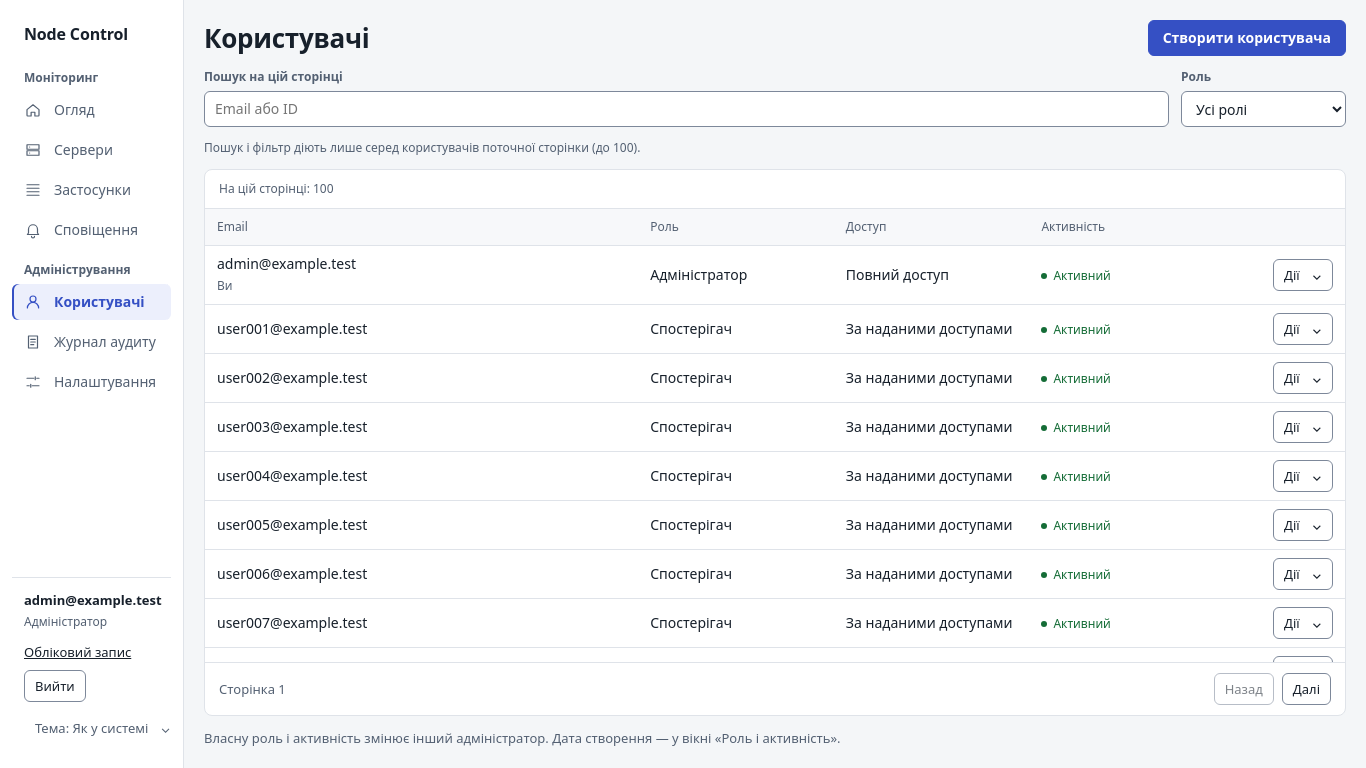
Test: create with a lost answer (P2-1) › not stored, the whole list read: says so with the bound and keeps the result unknown (never «not created»)
Click the button "Створити користувача" at (1247, 38), box [1148, 20, 1346, 56]
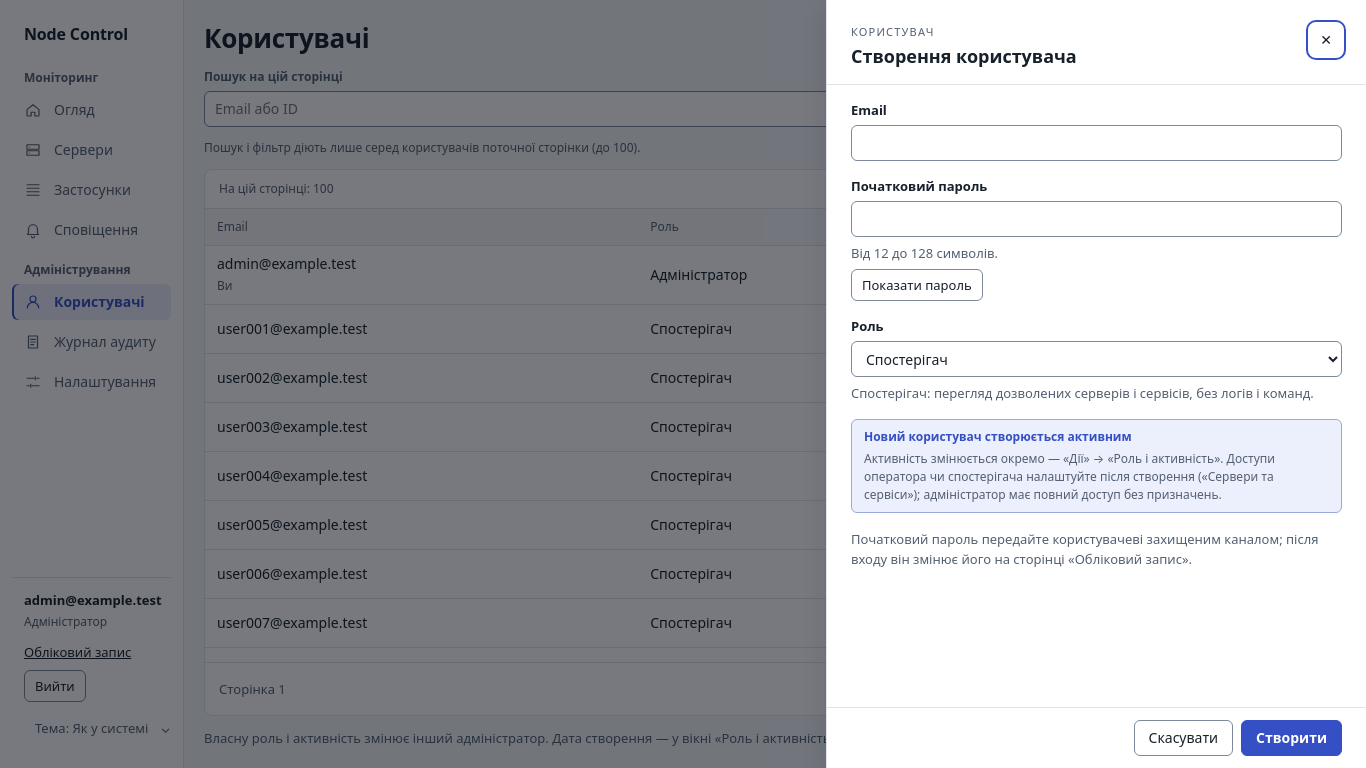
Type "fresh@example.test" into the field labelled "Email" at (1096, 143), box [851, 125, 1342, 161]
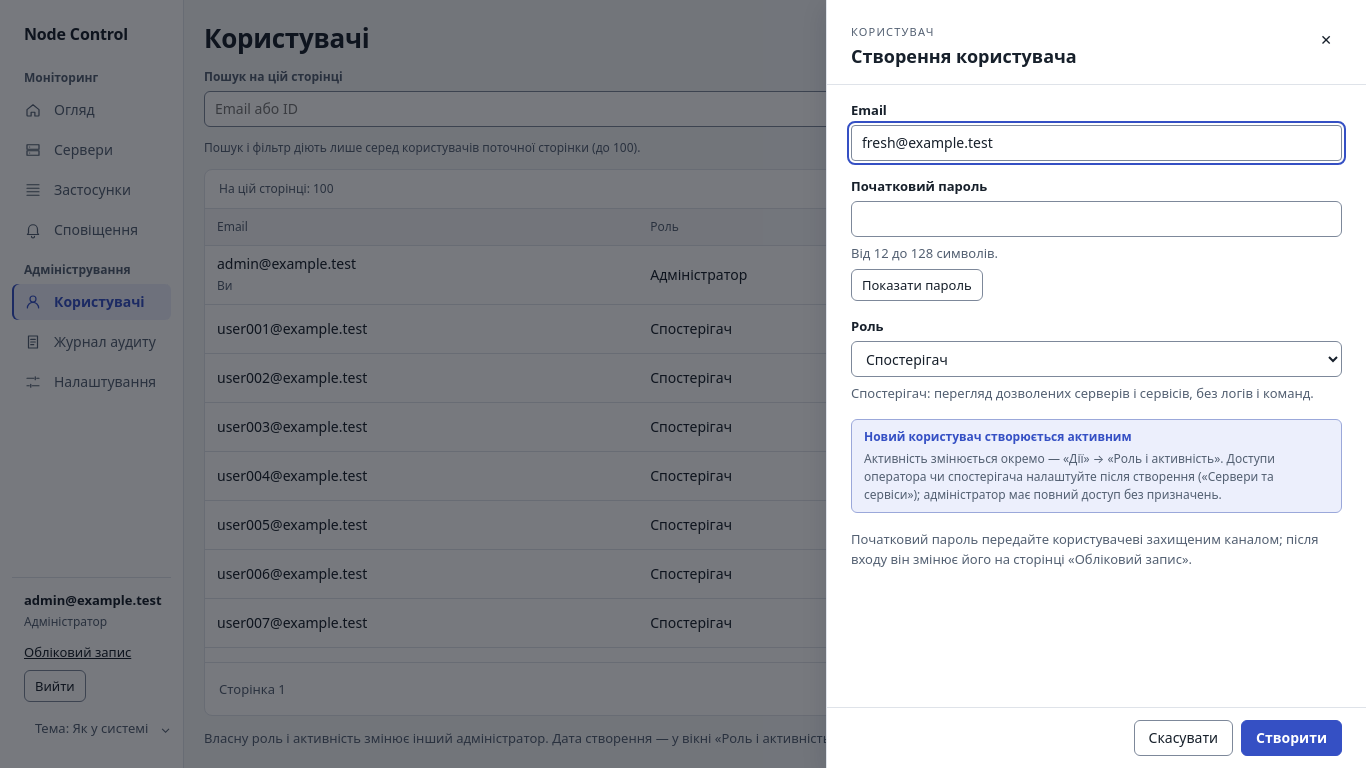
Type "synthetic-Fresh-Passw0rd" into the password field labelled "Початковий пароль" at (1096, 219), box [851, 201, 1342, 237]
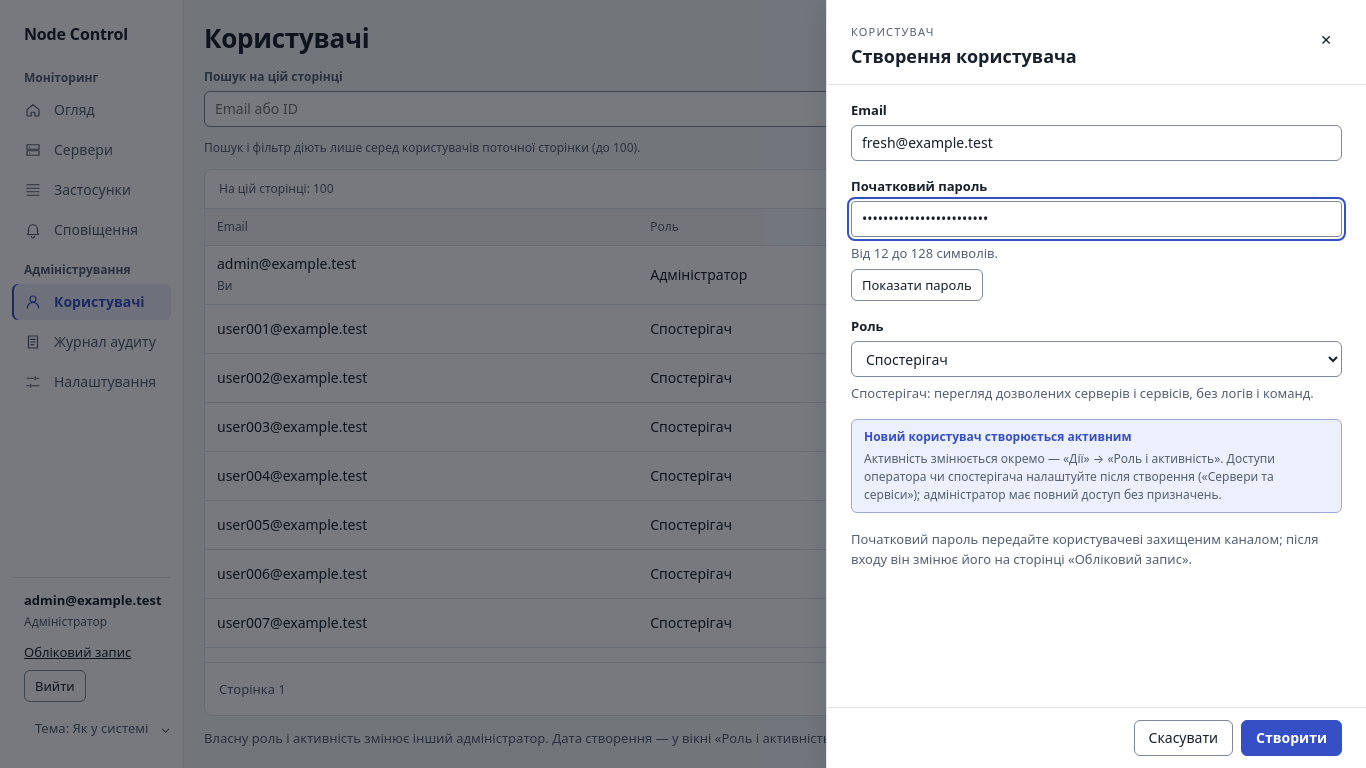
Select "Спостерігач" in the dropdown labelled "Роль" at (1096, 359), box [851, 341, 1342, 377]
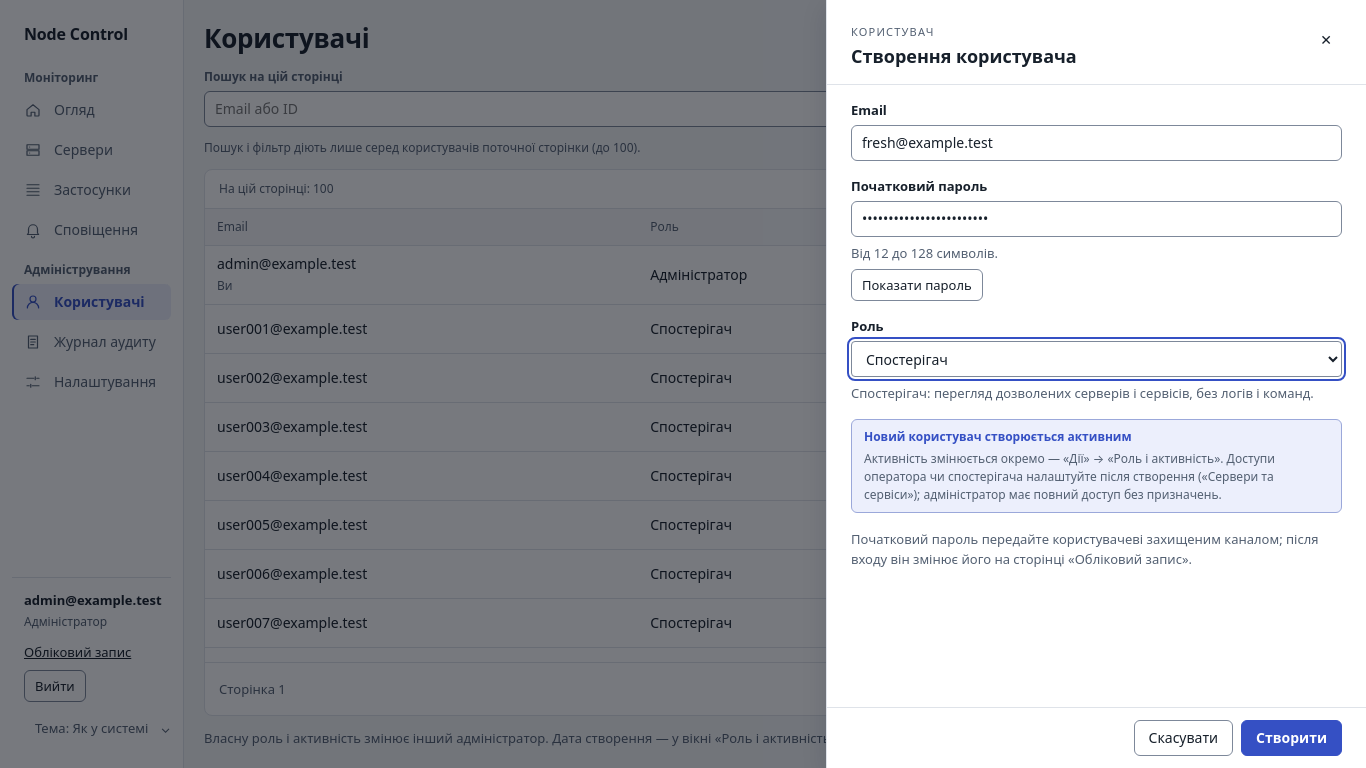
Click the button "Створити" at (1292, 738), box [1241, 720, 1342, 756]
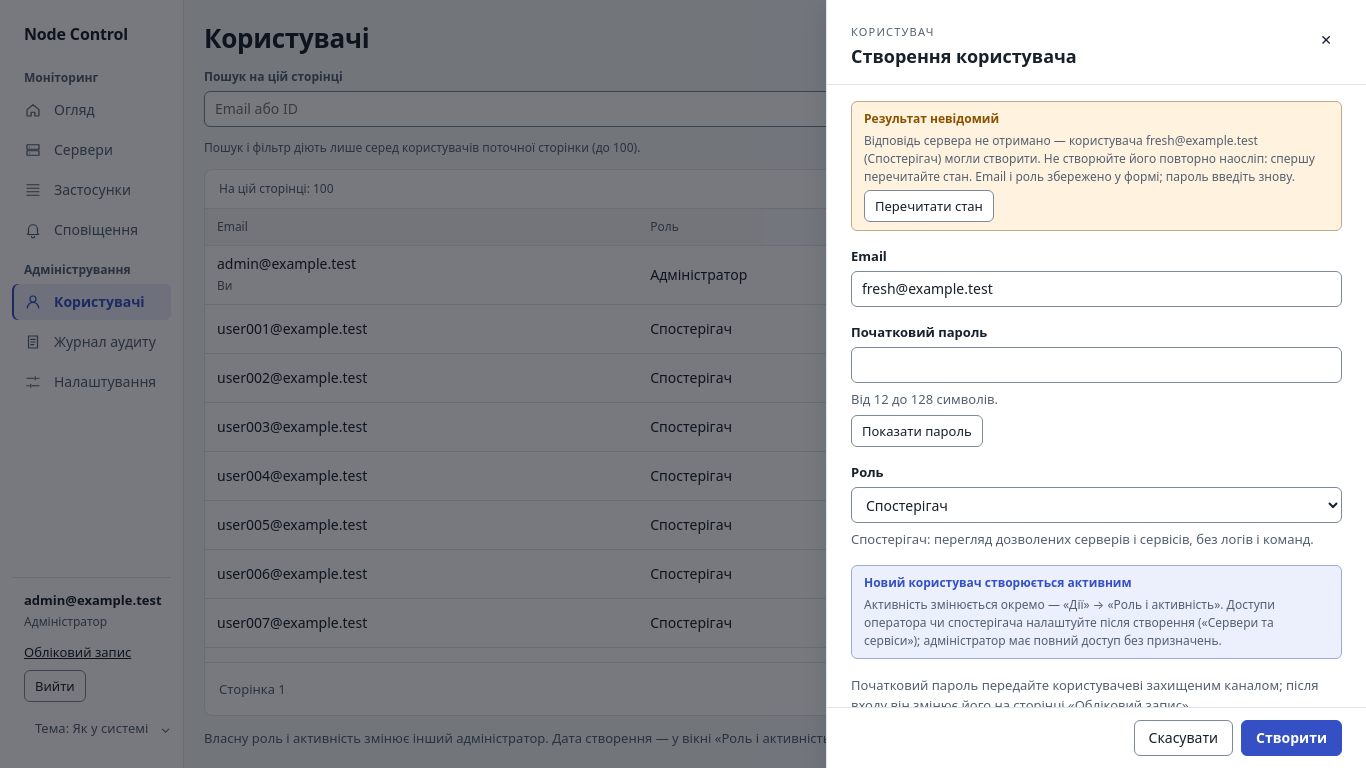
Click the button "Перечитати стан" at (929, 206), box [864, 190, 994, 222]
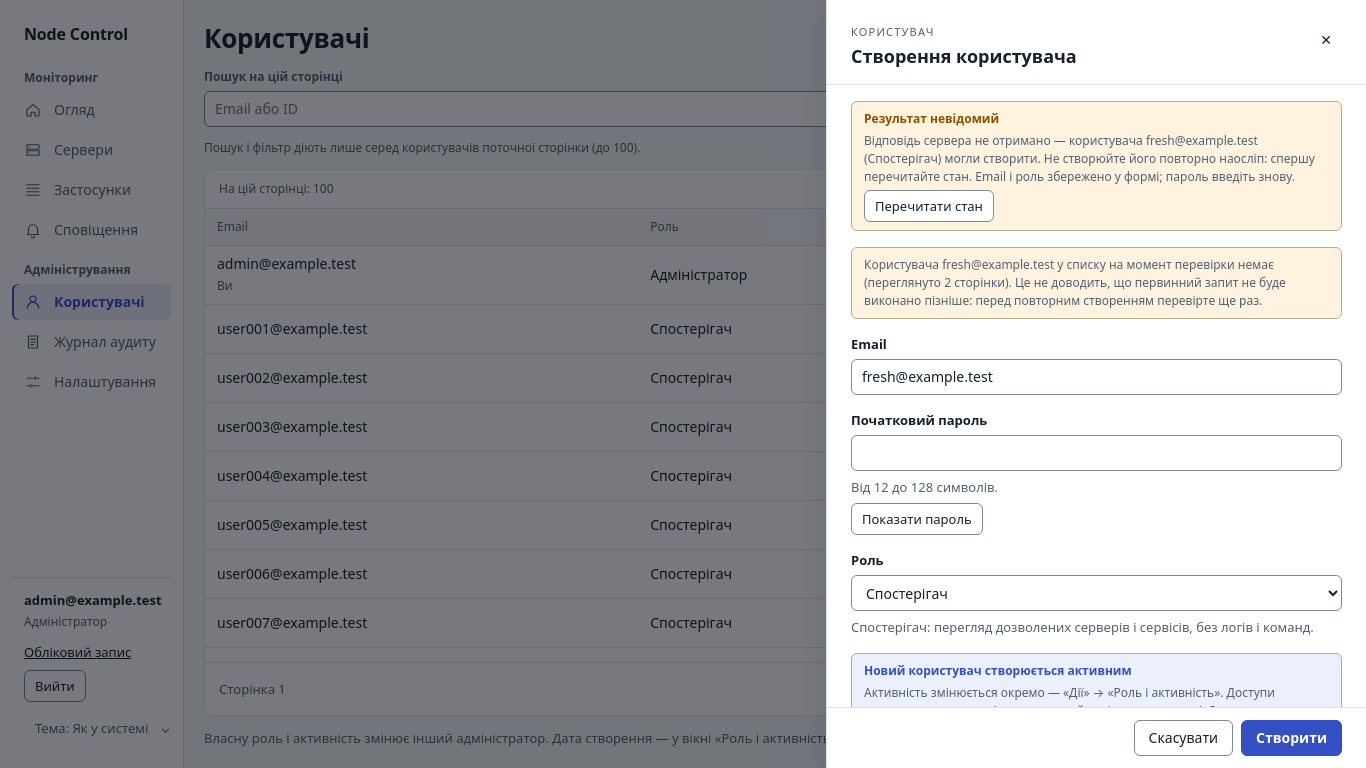
Expected: the text "Результат невідомий" is shown, [864, 110, 999, 127]
Expected: the text "у списку на момент перевірки немає" shows "2 сторінки", [864, 256, 1286, 309]
Expected: the text "у списку на момент перевірки немає" shows "не доводить", [864, 256, 1286, 309]
